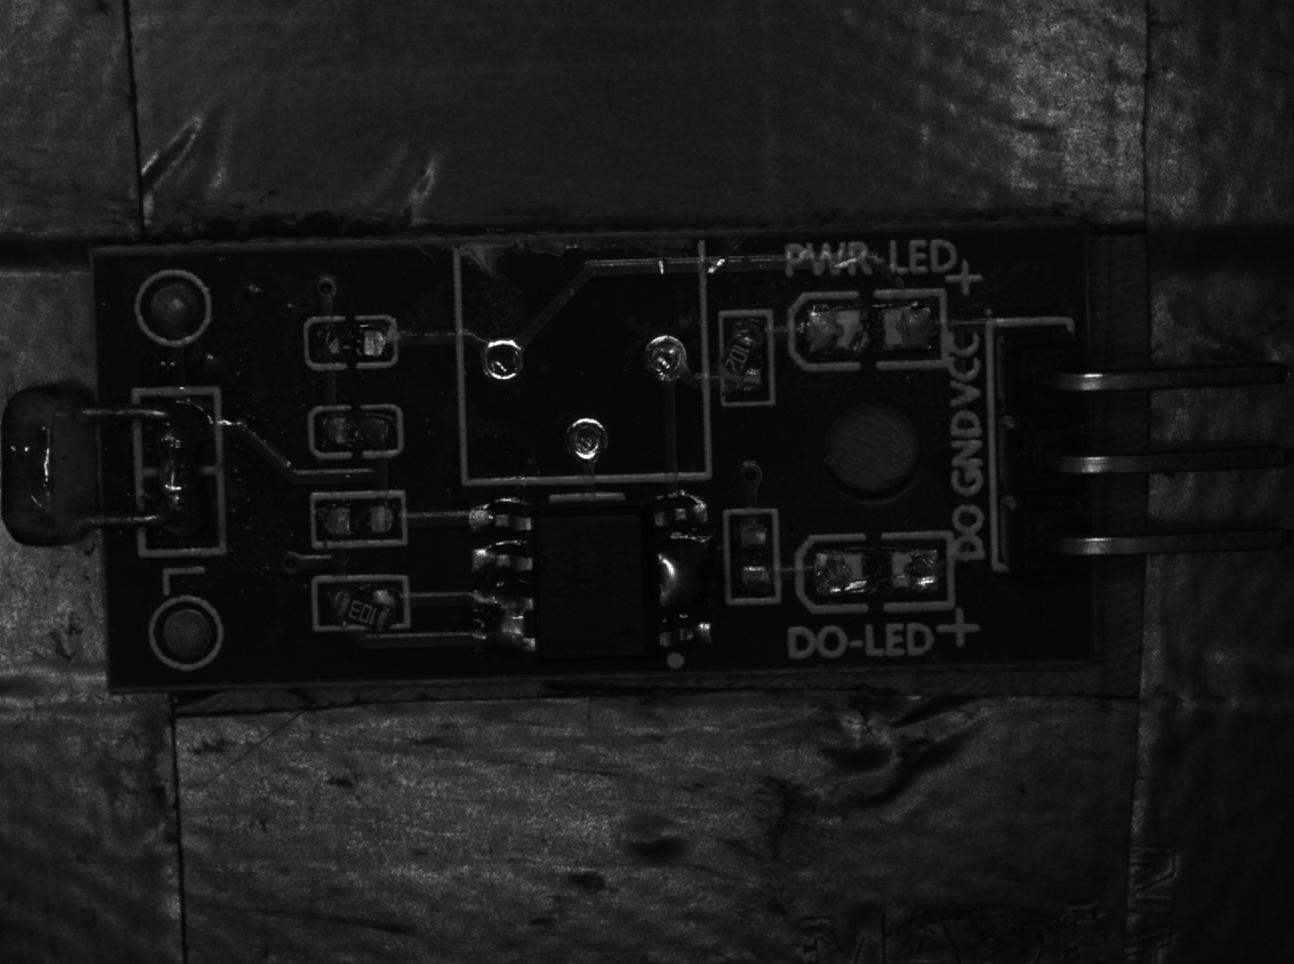bridge: (132, 394, 225, 559), (468, 589, 537, 651), (655, 536, 713, 607)
lifted: (311, 574, 414, 637), (717, 312, 774, 406)
miss: (306, 408, 414, 460), (303, 316, 404, 369), (308, 490, 405, 545), (728, 510, 778, 605)
